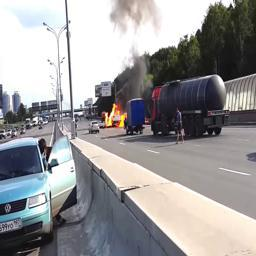fire: (105, 103, 126, 128)
